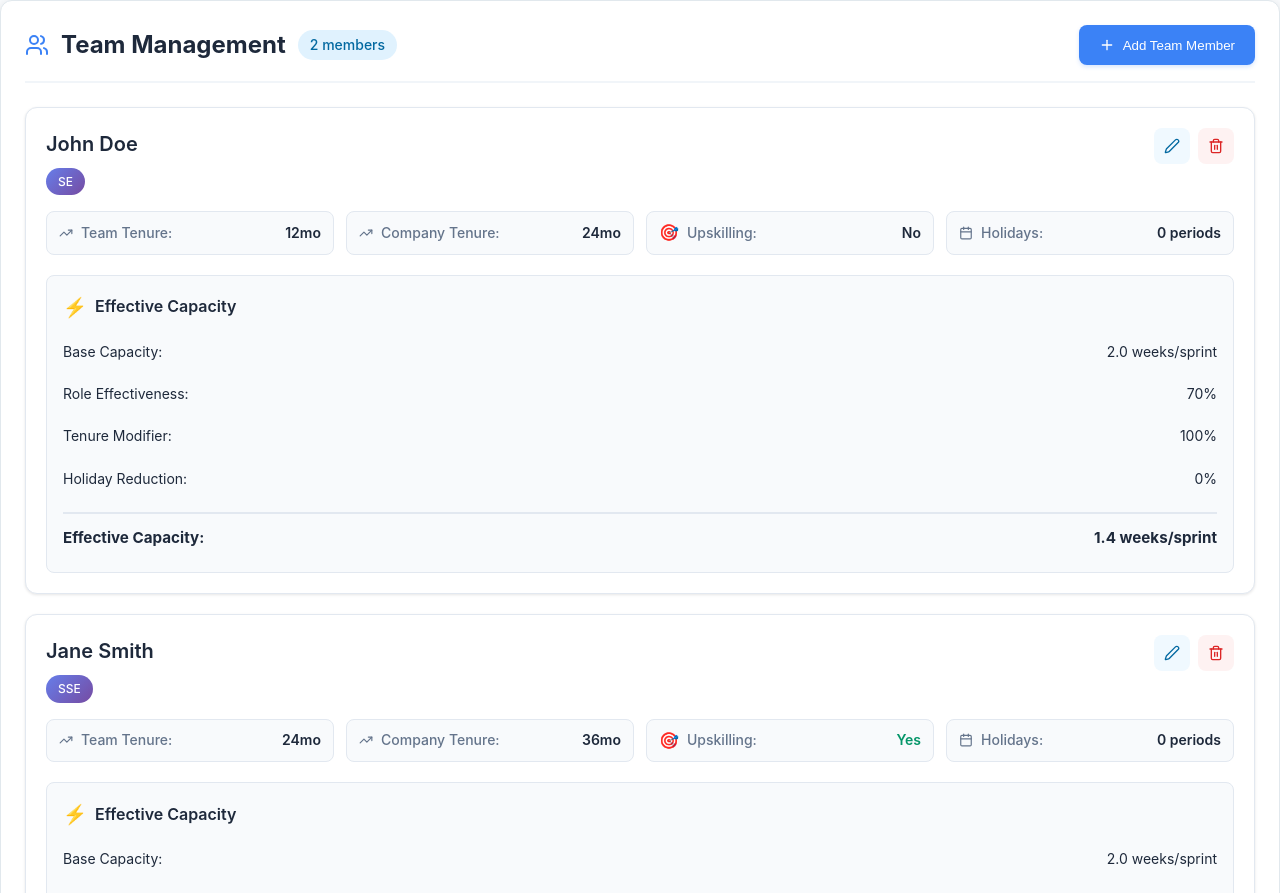
Scenario: TeamManagement › Edit Button Functionality › should close edit form when cancel is clicked
Click the button titled "Edit member" in the row of "John Doe" at (1172, 146), box x1=1154 y1=128 x2=1190 y2=164
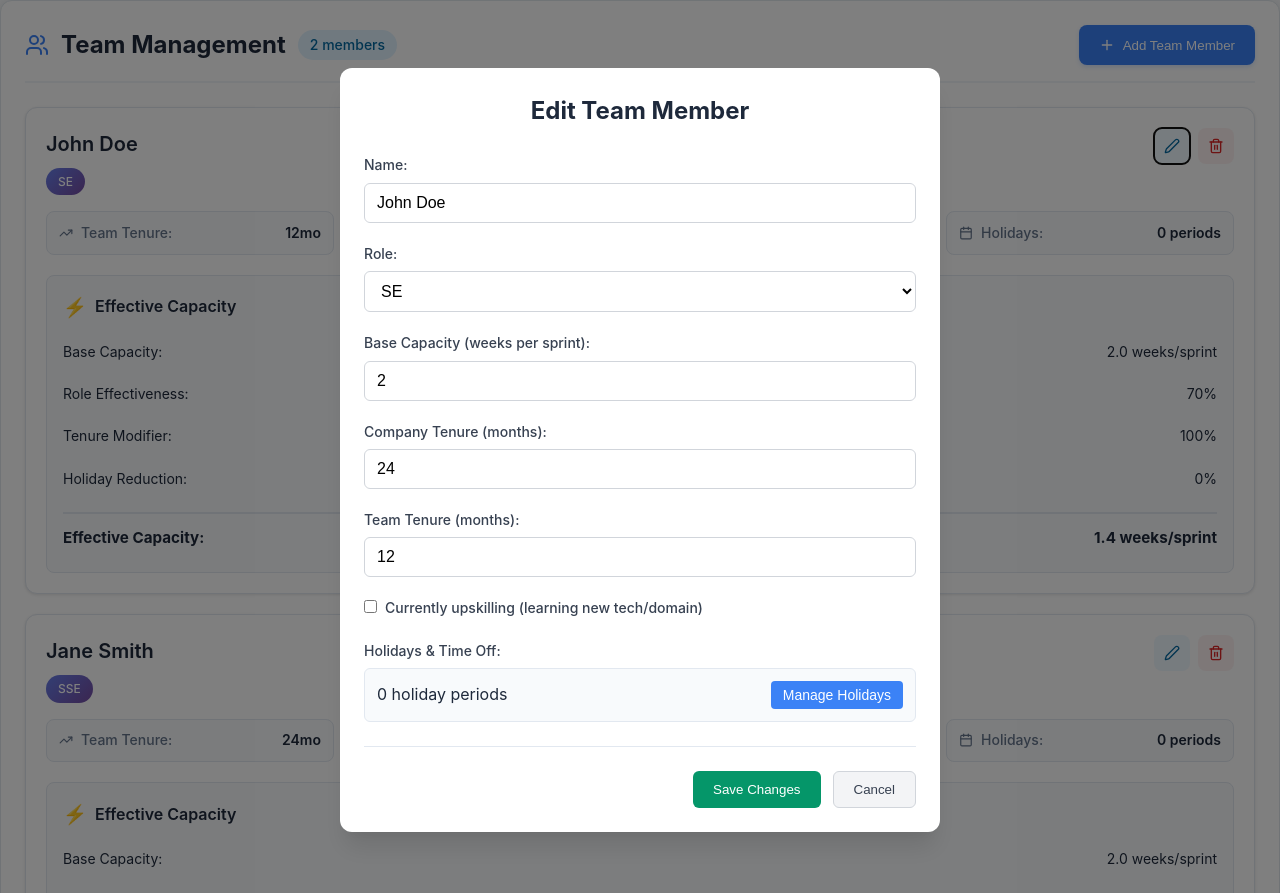
expect the heading "Edit Team Member" is shown: met, box x1=531 y1=96 x2=749 y2=125
Click the button "Cancel" at (874, 790), box x1=832 y1=771 x2=916 y2=808
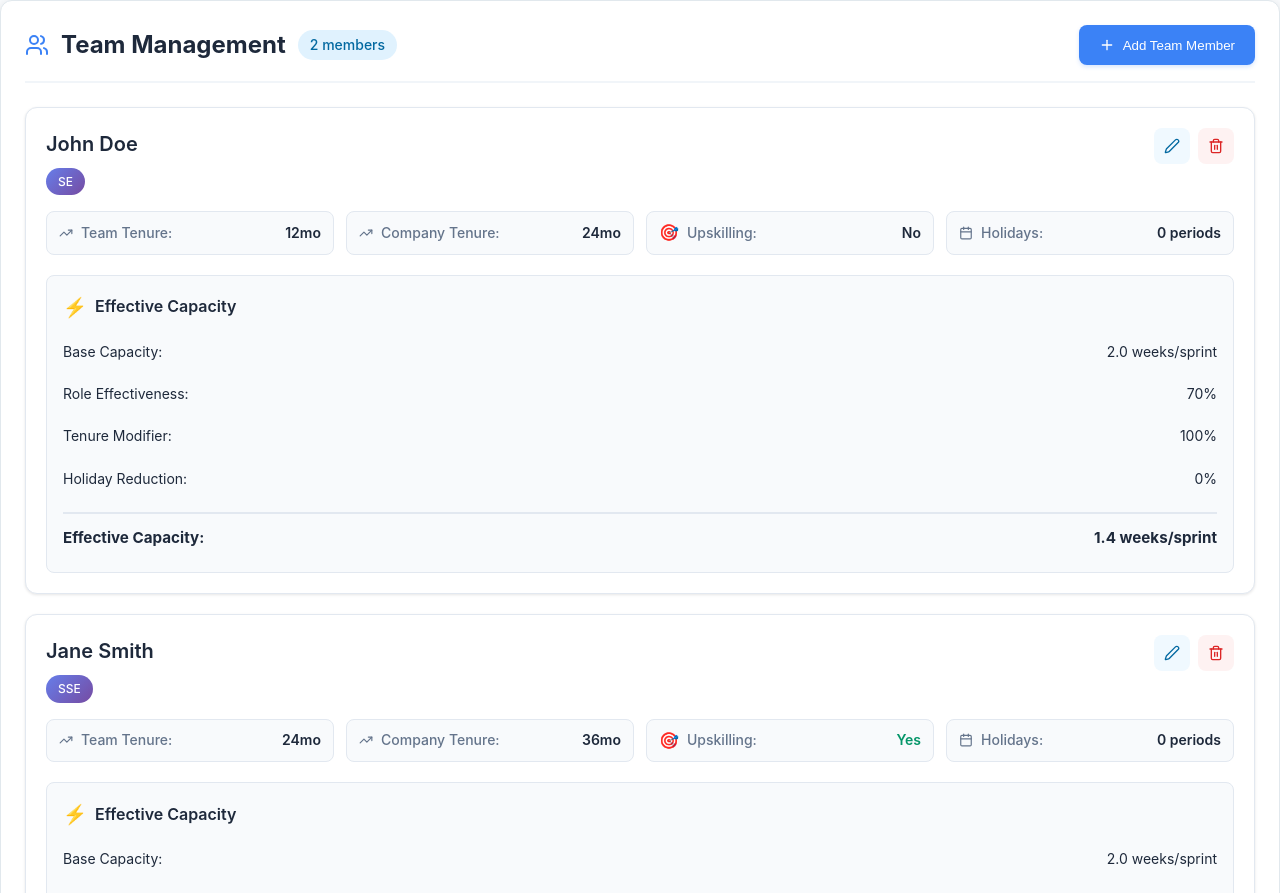
expect the heading "Edit Team Member" is gone: met
